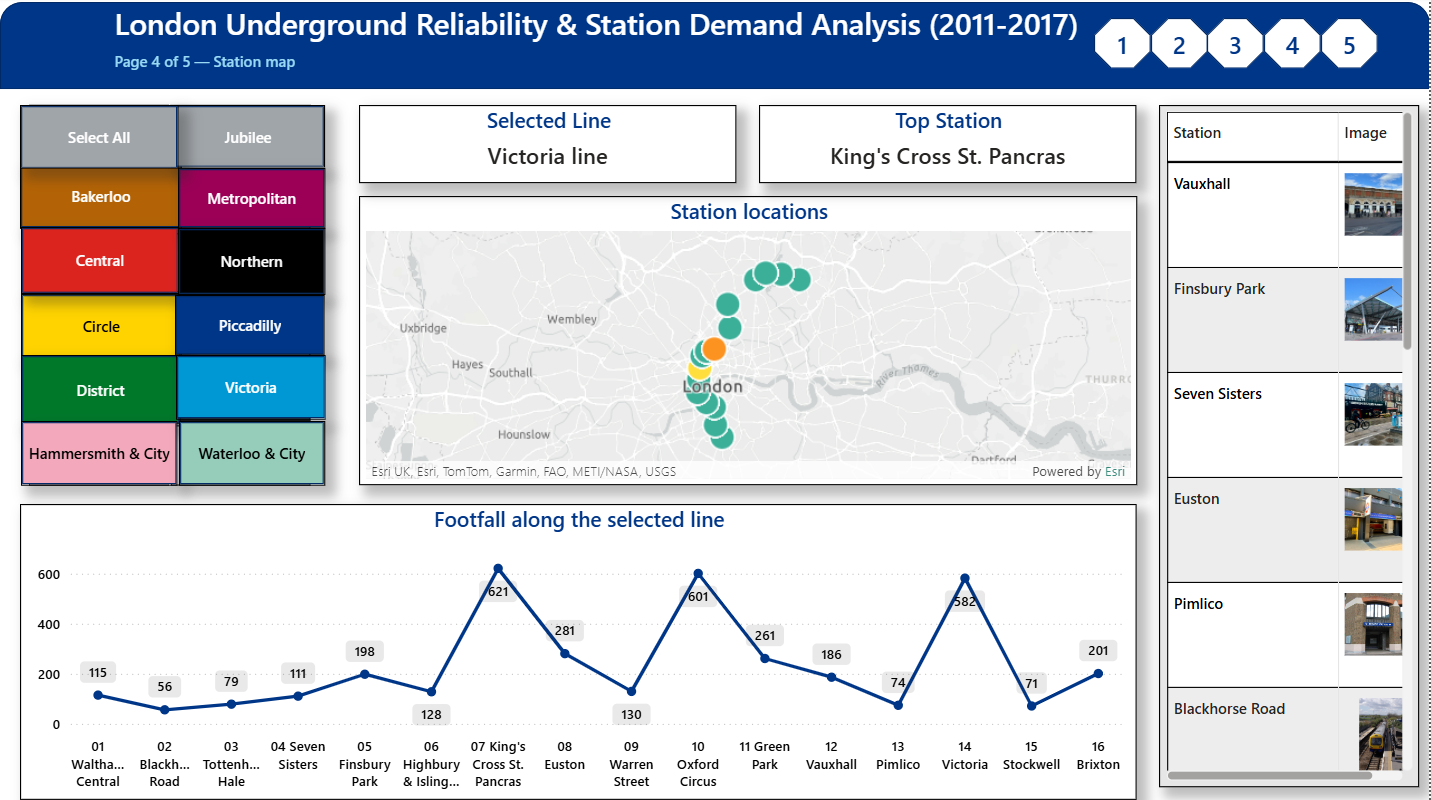

The page's visual inventory and layout, read from the dashboard file:
{"tool":"powerbi","page":{"name":"Map","canvas":[1280,720],"ordinal":3},"visuals":[{"type":"group","id":"g1","title":"Group 1","box":[106.5,2.7,1173.5,78.7],"z":0},{"type":"shape","box":[979.8,19.2,50.8,45.3],"z":0,"group":"g4"},{"type":"shape","box":[17.9,149.7,145,57.5],"z":0,"group":"g2"},{"type":"shape","box":[1030.6,19.2,50.8,45.3],"z":1000,"group":"g4"},{"type":"esriVisual","title":"Station locations","fields":{"Latitude":["Map data.latitude"],"Longitude":["Map data.longitude"],"Size":["clean_station_footfall.Station Footfall"],"Color":["Map data.Primary Line"]},"box":[321.6,178.2,696.9,259.4],"z":1000},{"type":"shape","box":[18.6,266,143.8,57.5],"z":1000,"group":"g2"},{"type":"shape","box":[1081.4,19.2,50.8,45.3],"z":2000,"group":"g4"},{"type":"slicer","fields":{"Values":["Station-line sequence.line"]},"box":[0,89.9,302,354.8],"z":2000},{"type":"shape","box":[19.1,206,141.4,59.9],"z":2000,"group":"g2"},{"type":"shape","box":[1132.1,19.2,50.8,45.3],"z":3000,"group":"g4"},{"type":"group","id":"g2","title":"Group 2","box":[17.9,97,273.9,340.7],"z":3000},{"type":"shape","box":[19.1,321.1,142.6,62.3],"z":3000,"group":"g2"},{"type":"shape","box":[1182.9,19.2,50.8,45.3],"z":4000,"group":"g4"},{"type":"shape","box":[19.1,379.8,140.2,57.5],"z":4000,"group":"g2"},{"type":"lineChart","title":"Footfall along the selected line","fields":{"Y":["clean_station_footfall.Station Footfall"],"Category":["Station-line sequence.Station Sequence Label"]},"box":[18,454.2,999.6,264.9],"z":4000},{"type":"tableEx","fields":{"Values":["Map data.station","Station-line sequence.image_url"]},"box":[1037.9,97.1,232.5,611.2],"z":5000},{"type":"shape","box":[153.4,97.2,137.8,56.3],"z":5000,"group":"g2"},{"type":"shape","box":[0,4.1,1280.4,78.2],"z":6000,"group":"g3"},{"type":"card","title":"Selected Line","fields":{"Values":["DateTable.Selected Line Text"]},"box":[321.2,97.1,338,69.5],"z":6000},{"type":"shape","box":[159.2,153.7,131.8,53.9],"z":6000,"group":"g2"},{"type":"textbox","box":[97.4,0,882.4,53.5],"z":7000,"group":"g3"},{"type":"textbox","box":[106.5,2.7,1173.5,49.4],"z":7000,"group":"g1"},{"type":"card","title":"Top Station","fields":{"Values":["DateTable.Top Station on Line"]},"box":[679.6,97.1,338,69.5],"z":7000},{"type":"shape","box":[159.4,207.4,131.8,59.9],"z":7000,"group":"g2"},{"type":"group","id":"g3","title":"Group 1","box":[0,0,1280.6,82.4],"z":8000},{"type":"textbox","box":[106.5,42.1,465.5,39.4],"z":8000,"group":"g1"},{"type":"textbox","box":[97.6,44,425.4,31.3],"z":8000,"group":"g3"},{"type":"shape","box":[157,267.4,134.2,53.9],"z":8000,"group":"g2"},{"type":"group","id":"g4","title":"Group 3","box":[979.8,19.2,253.9,45.3],"z":9000},{"type":"shape","box":[157.5,321.1,134.2,57.5],"z":9000,"group":"g2"},{"type":"shape","box":[159.9,380.2,130.6,57.5],"z":10000,"group":"g2"},{"type":"shape","title":"Select All","box":[17.9,97,141.7,57.4],"z":11000,"group":"g2"}]}

Visuals, with their boxes in screenshot pixels (x1, y1, x2, y2), scaled from the page's 1280x720 canvas onto the 1431x800 screenshot:
"Group 1" group: region(119, 3, 1430, 90)
shape: region(1095, 21, 1152, 72)
shape: region(20, 166, 182, 230)
shape: region(1152, 21, 1209, 72)
"Station locations" esriVisual: region(360, 198, 1139, 486)
shape: region(21, 296, 182, 359)
shape: region(1209, 21, 1266, 72)
slicer - Station-line sequence.line: region(0, 100, 338, 494)
shape: region(21, 229, 179, 295)
shape: region(1266, 21, 1322, 72)
"Group 2" group: region(20, 108, 326, 486)
shape: region(21, 357, 181, 426)
shape: region(1322, 21, 1379, 72)
shape: region(21, 422, 178, 486)
"Footfall along the selected line" lineChart: region(20, 505, 1138, 799)
tableEx - Map data.station x Station-line sequence.image_url: region(1160, 108, 1420, 787)
shape: region(171, 108, 326, 171)
shape: region(0, 5, 1430, 91)
"Selected Line" card: region(359, 108, 737, 185)
shape: region(178, 171, 325, 231)
textbox: region(109, 0, 1095, 59)
textbox: region(119, 3, 1430, 58)
"Top Station" card: region(760, 108, 1138, 185)
shape: region(178, 230, 326, 297)
"Group 1" group: region(0, 0, 1430, 92)
textbox: region(119, 47, 639, 91)
textbox: region(109, 49, 585, 84)
shape: region(176, 297, 326, 357)
"Group 3" group: region(1095, 21, 1379, 72)
shape: region(176, 357, 326, 421)
shape: region(179, 422, 325, 486)
"Select All" shape: region(20, 108, 178, 172)
